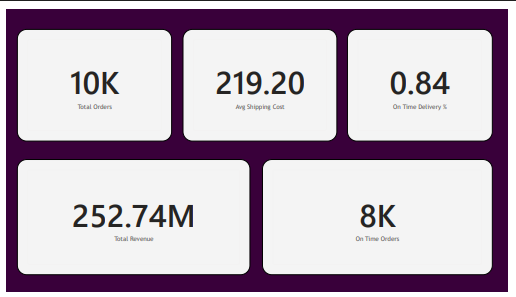

The page's visual inventory and layout, read from the dashboard file:
{"tool":"powerbi","page":{"name":"Page 1","canvas":[1280,720],"ordinal":0},"visuals":[{"type":"cardVisual","fields":{"Data":["Supply_Chain_Logistics_Analytics_10000Rows.Total Revenue"]},"box":[26.7,381.7,596.7,296.7],"z":0},{"type":"cardVisual","fields":{"Data":["Supply_Chain_Logistics_Analytics_10000Rows.On Time Orders"]},"box":[653.3,381.7,588.3,296.7],"z":1000},{"type":"cardVisual","fields":{"Data":["Supply_Chain_Logistics_Analytics_10000Rows.Total Orders"]},"box":[26.7,50,396.7,286.7],"z":2000},{"type":"cardVisual","fields":{"Data":["Supply_Chain_Logistics_Analytics_10000Rows.Avg Shipping Cost"]},"box":[450,50,395,286.7],"z":3000},{"type":"cardVisual","fields":{"Data":["Supply_Chain_Logistics_Analytics_10000Rows.On Time Delivery %"]},"box":[870,50,371.7,286.7],"z":4000}]}

Visuals, with their boxes in screenshot pixels (x1, y1, x2, y2), scaled from the page's 1280x720 canvas onto the 516x297 screenshot:
cardVisual - Supply_Chain_Logistics_Analytics_10000Rows.Total Revenue: BBox(11, 157, 251, 280)
cardVisual - Supply_Chain_Logistics_Analytics_10000Rows.On Time Orders: BBox(263, 157, 501, 280)
cardVisual - Supply_Chain_Logistics_Analytics_10000Rows.Total Orders: BBox(11, 21, 171, 139)
cardVisual - Supply_Chain_Logistics_Analytics_10000Rows.Avg Shipping Cost: BBox(181, 21, 341, 139)
cardVisual - Supply_Chain_Logistics_Analytics_10000Rows.On Time Delivery %: BBox(351, 21, 501, 139)
